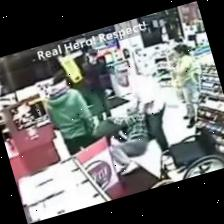person: (48, 72, 94, 155), (173, 45, 200, 128)
